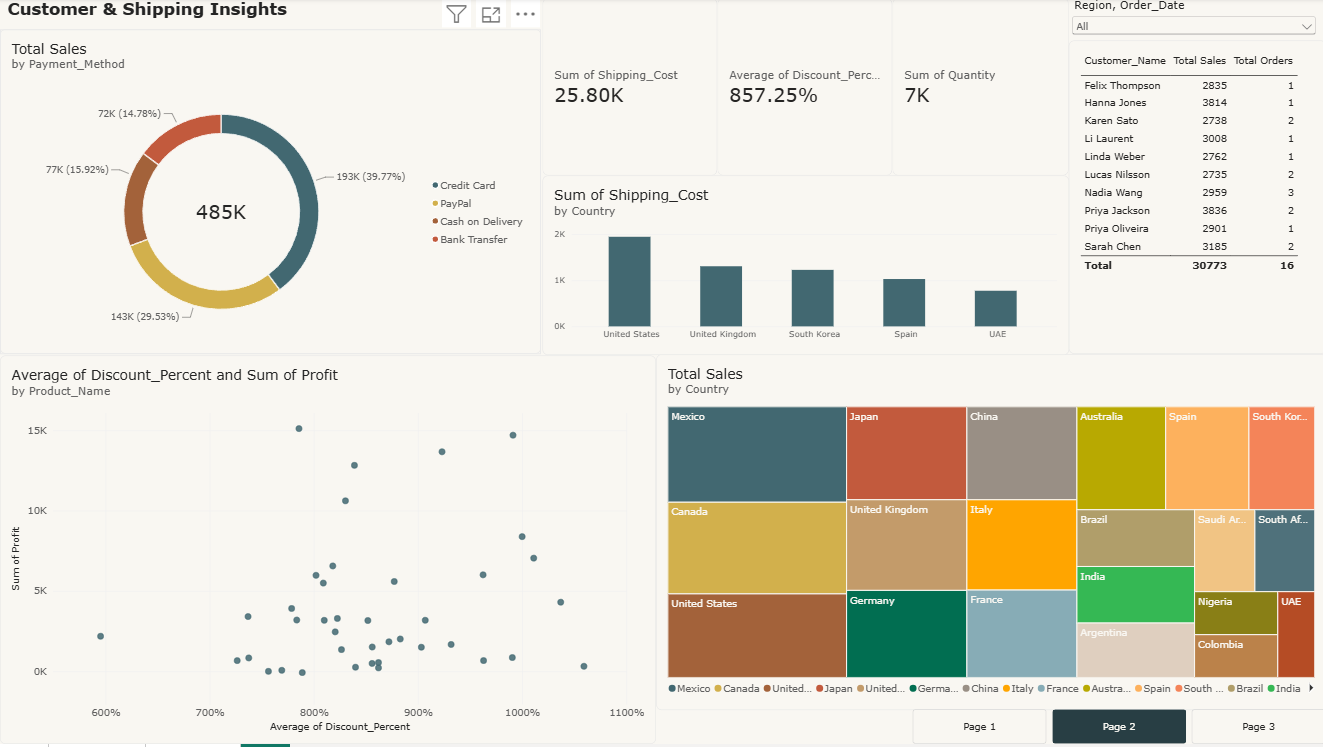

Layout of this report page (visuals, bound fields, positions):
{"tool":"powerbi","page":{"name":"Page 2","canvas":[1920,1080],"ordinal":1},"visuals":[{"type":"donutChart","fields":{"Category":["global_ecommerce_sales.Payment_Method"],"Y":["global_ecommerce_sales.Total Sales"]},"box":[0,45.3,783,469.8],"z":0},{"type":"treemap","fields":{"Group":["global_ecommerce_sales.Country"],"Values":["global_ecommerce_sales.Total Sales"]},"box":[949.9,515.1,970.5,515.1],"z":1000},{"type":"scatterChart","fields":{"Category":["global_ecommerce_sales.Product_Name"],"X":["Avg(global_ecommerce_sales.Discount_Percent)"],"Y":["Sum(global_ecommerce_sales.Profit)"]},"box":[0,517.2,949.9,562.5],"z":2000},{"type":"cardVisual","fields":{"Data":["Sum(global_ecommerce_sales.Shipping_Cost)"]},"box":[785.1,0,253.4,257.6],"z":3000},{"type":"cardVisual","fields":{"Data":["Avg(global_ecommerce_sales.Discount_Percent)"]},"box":[1038.5,0,253.4,257.6],"z":4000},{"type":"cardVisual","fields":{"Data":["Sum(global_ecommerce_sales.Quantity)"]},"box":[1292,0,255.5,257.6],"z":5000},{"type":"slicer","fields":{"Values":["global_ecommerce_sales.Region","global_ecommerce_sales.Order_Date"]},"box":[1547.5,0,362.7,61.8],"z":6000},{"type":"tableEx","fields":{"Values":["global_ecommerce_sales.Customer_Name","global_ecommerce_sales.Total Sales","global_ecommerce_sales.Total Orders"]},"box":[1547.5,61.8,373,453.3],"z":7000},{"type":"clusteredColumnChart","fields":{"Category":["global_ecommerce_sales.Country"],"Y":["Sum(global_ecommerce_sales.Shipping_Cost)"]},"box":[785.1,257.6,762.4,259.6],"z":8000},{"type":"pageNavigator","box":[1320.8,1030.3,600,50],"z":8001},{"type":"textbox","box":[10.3,0,430.7,61.8],"z":8002}]}

Visuals, with their boxes in screenshot pixels (x1, y1, x2, y2), scaled from the page's 1920x1080 canvas onto the 1323x747 screenshot:
donutChart - global_ecommerce_sales.Payment_Method x global_ecommerce_sales.Total Sales: left=0, top=31, right=540, bottom=356
treemap - global_ecommerce_sales.Country x global_ecommerce_sales.Total Sales: left=655, top=356, right=1322, bottom=713
scatterChart - global_ecommerce_sales.Product_Name x Avg(global_ecommerce_sales.Discount_Percent): left=0, top=358, right=655, bottom=746
cardVisual - Sum(global_ecommerce_sales.Shipping_Cost): left=541, top=0, right=716, bottom=178
cardVisual - Avg(global_ecommerce_sales.Discount_Percent): left=716, top=0, right=890, bottom=178
cardVisual - Sum(global_ecommerce_sales.Quantity): left=890, top=0, right=1066, bottom=178
slicer - global_ecommerce_sales.Region x global_ecommerce_sales.Order_Date: left=1066, top=0, right=1316, bottom=43
tableEx - global_ecommerce_sales.Customer_Name x global_ecommerce_sales.Total Sales: left=1066, top=43, right=1322, bottom=356
clusteredColumnChart - global_ecommerce_sales.Country x Sum(global_ecommerce_sales.Shipping_Cost): left=541, top=178, right=1066, bottom=358
pageNavigator: left=910, top=713, right=1322, bottom=746
textbox: left=7, top=0, right=304, bottom=43
